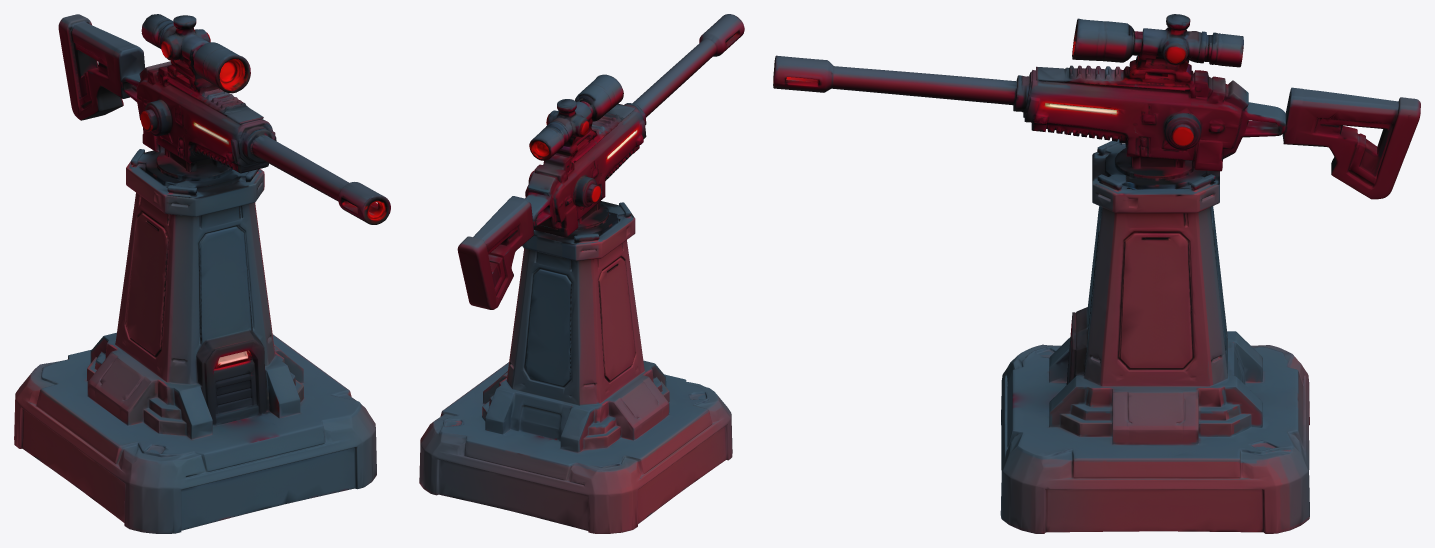
Rendered from 狙击塔.glb.
The picture shows the model from 3 angles, left to right: view 1: azimuth 30°, elevation 25°; view 2: azimuth 150°, elevation 25°; view 3: azimuth 270°, elevation 25°; orthographic projection. The views are drawn at different scales.
Parts seen in each view (by area): view 1: node_0; view 2: node_0; view 3: node_0.
Boxes of the visible parts, <box> form: node_0: <box>14,14,390,533</box>; node_0: <box>419,14,744,533</box>; node_0: <box>773,14,1420,533</box>.
Size of the model in its own units: 0.4742 by 0.7874 by 1.02.
Materials: 1 (1 with a texture image).
